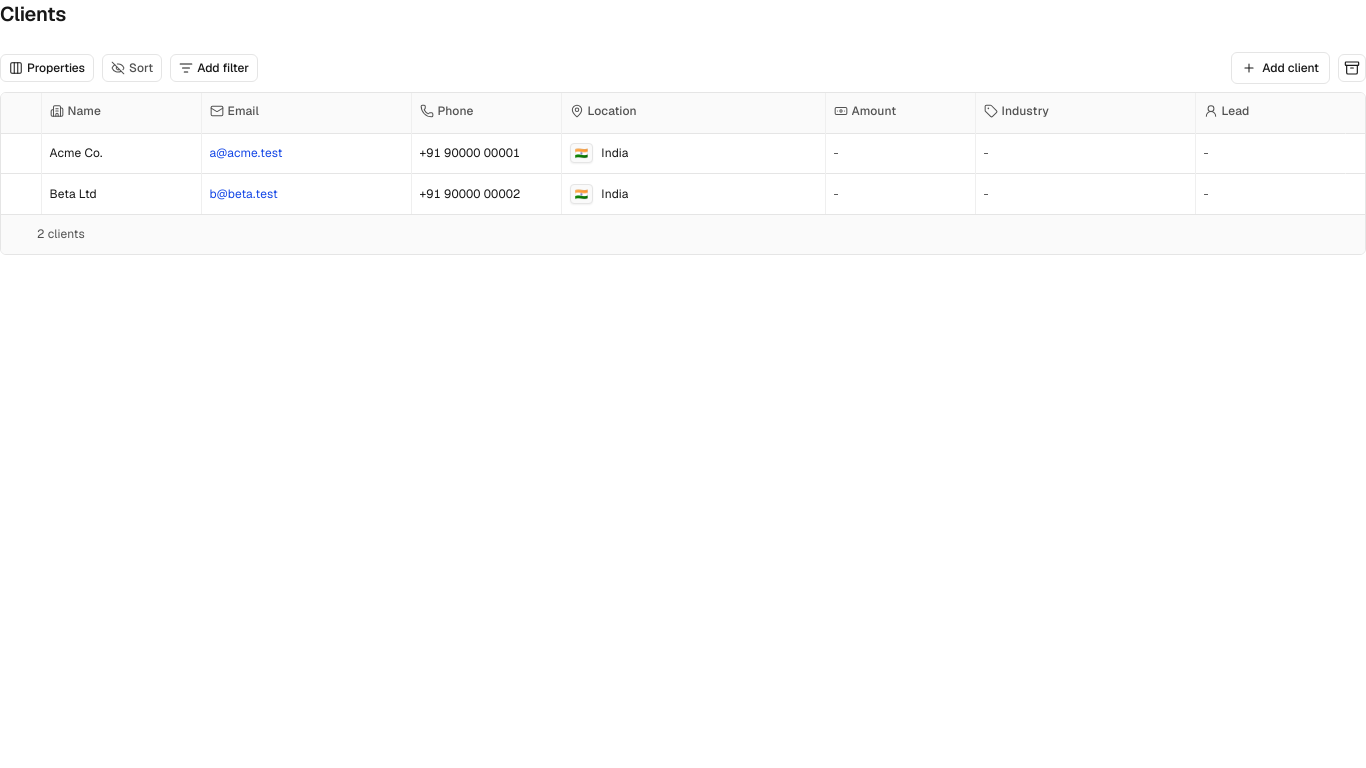
Test: ClientManager › Properties › hides and shows a column, and keeps Name
Expected: the column heading "Email" is shown, [201,93,411,133]
Click the button "Properties".
click(47, 68)  # box [0,54,94,82]
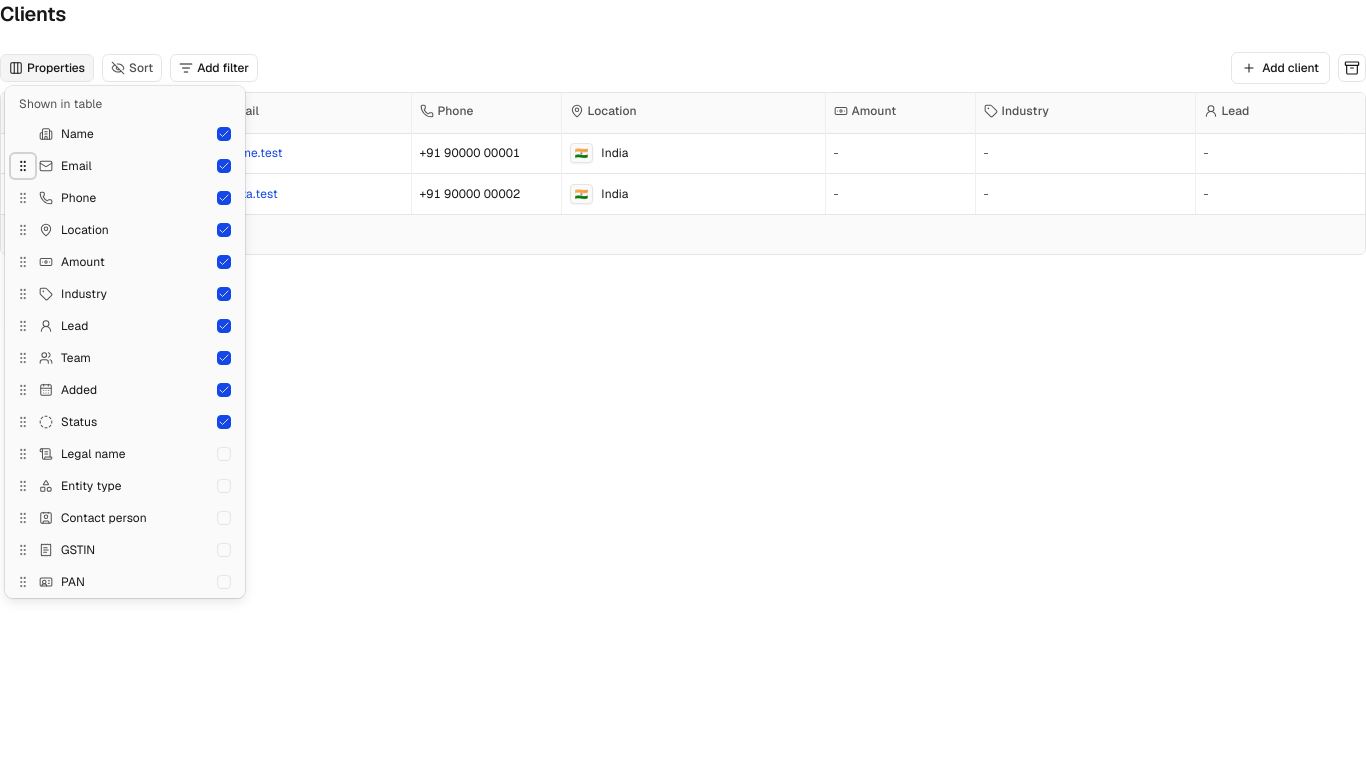
Click the 2nd checkbox named "Email".
click(224, 166)  # box [217,159,231,173]
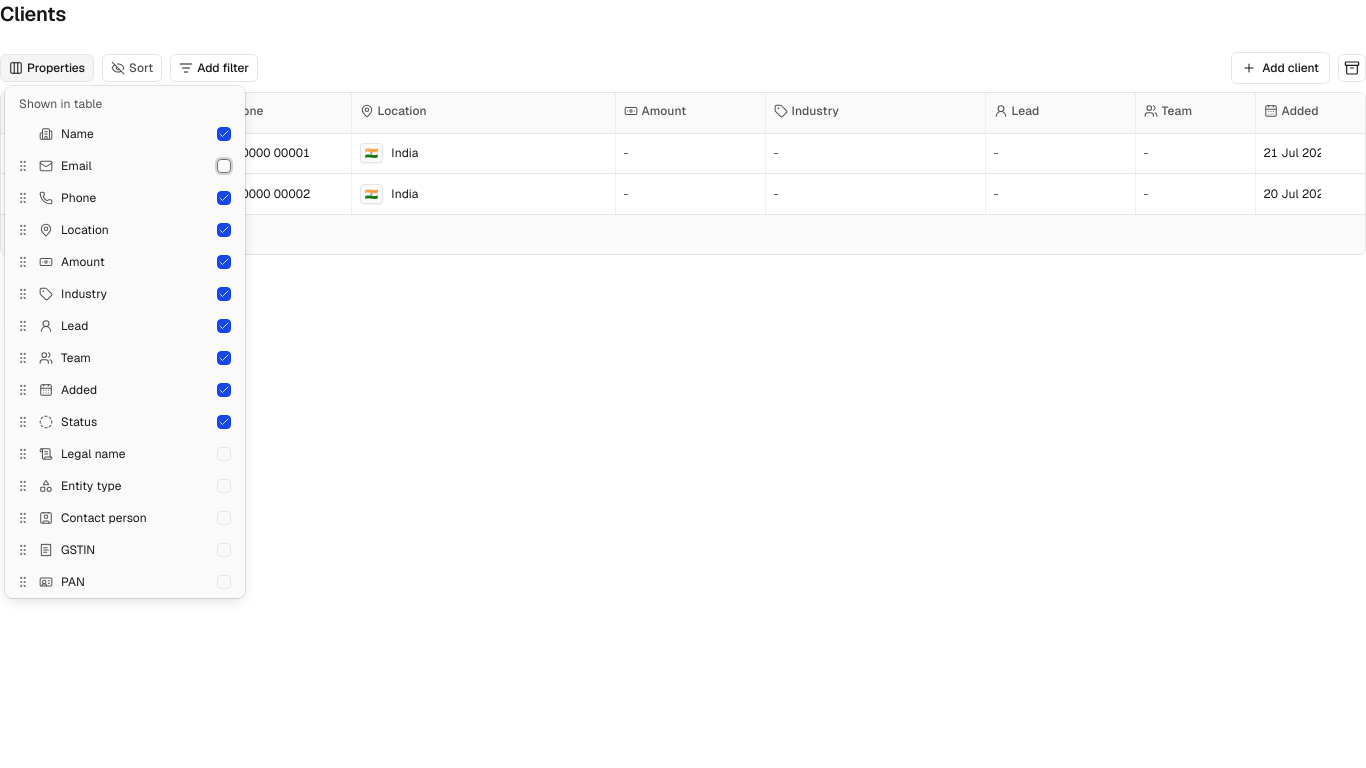
Now the 1st checkbox named "Name" is checked, box [217,127,231,141]
Click the checkbox named "Email" next to "Email".
click(224, 166)  # box [217,159,231,173]
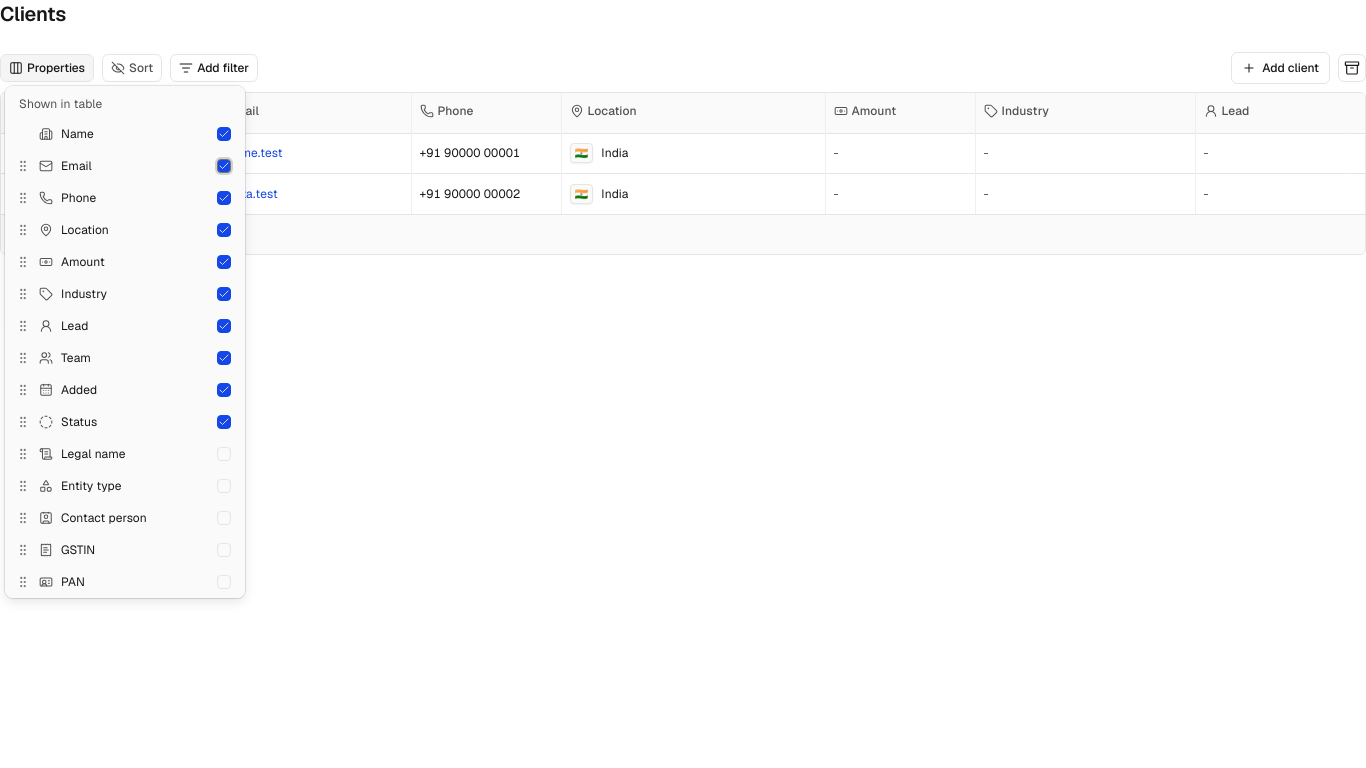
Now the column heading "Email" is shown, box [201,93,411,133]
